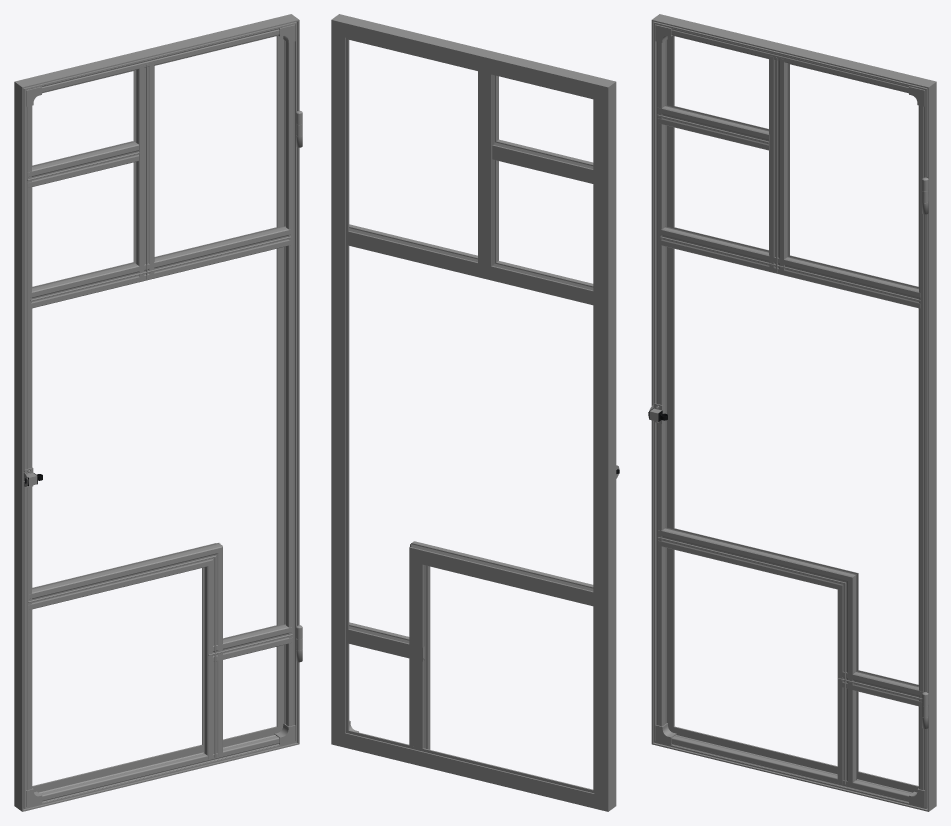
The picture shows the model from 3 angles, left to right: view 1: azimuth 30°, elevation 25°; view 2: azimuth 150°, elevation 25°; view 3: azimuth 330°, elevation 25°; orthographic projection.
Parts seen in each view (by area): view 1: Rectangle001, Line005, Rectangle2037; view 2: Rectangle2037, Line005, Rectangle001; view 3: Rectangle001, Line005, Rectangle2037.
Boxes of the visible parts, x1,y1,x2,y2 form: Rectangle001: (23, 22, 297, 808); Line005: (27, 63, 292, 759); Rectangle2037: (14, 14, 299, 811); Rectangle2037: (331, 14, 616, 811); Line005: (348, 71, 593, 749); Rectangle001: (345, 38, 594, 793); Rectangle001: (653, 22, 927, 808); Line005: (657, 56, 922, 785); Rectangle2037: (651, 14, 936, 811).
Bounding box in the file's own units: 603 × 1500 × 46.41.
Materials: 6 (2 with a texture image).
